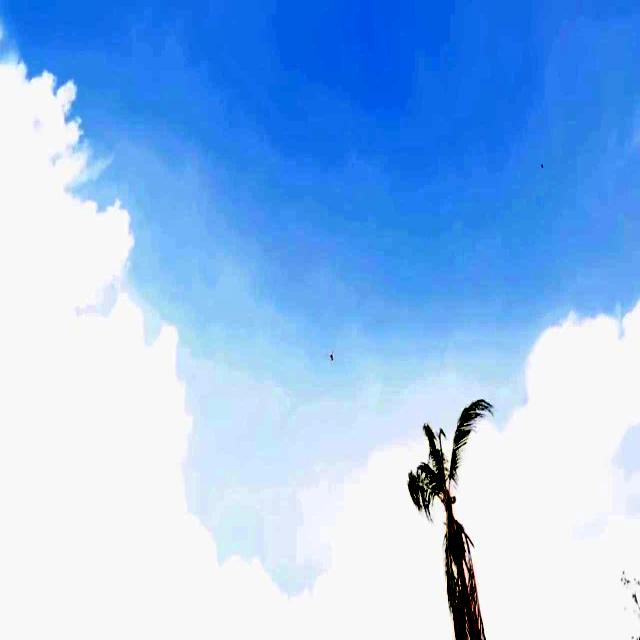drone: (328, 351, 336, 364)
